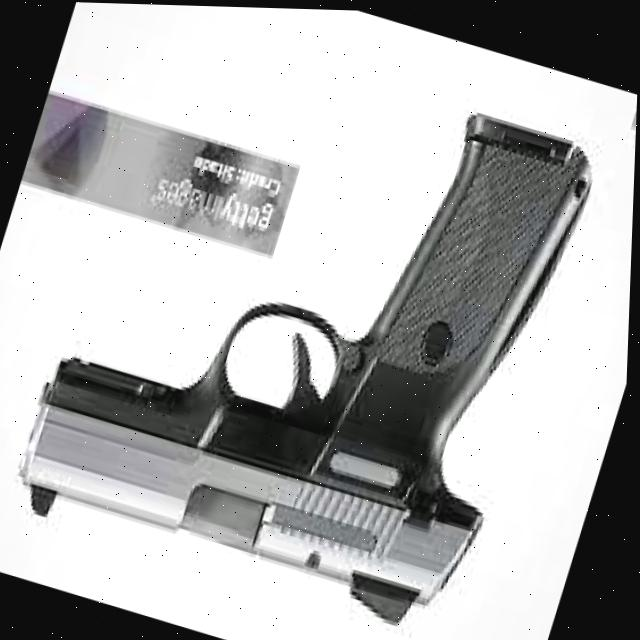gun: (16, 106, 593, 630)
